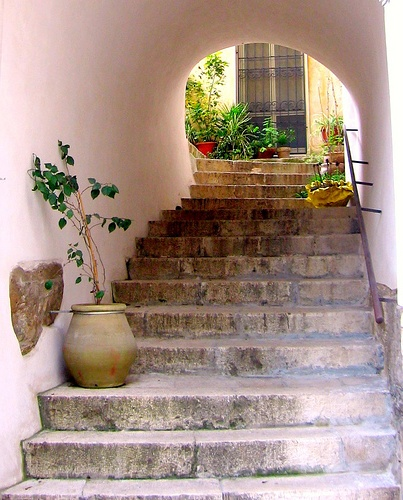stairs_up: (71, 206, 362, 494)
